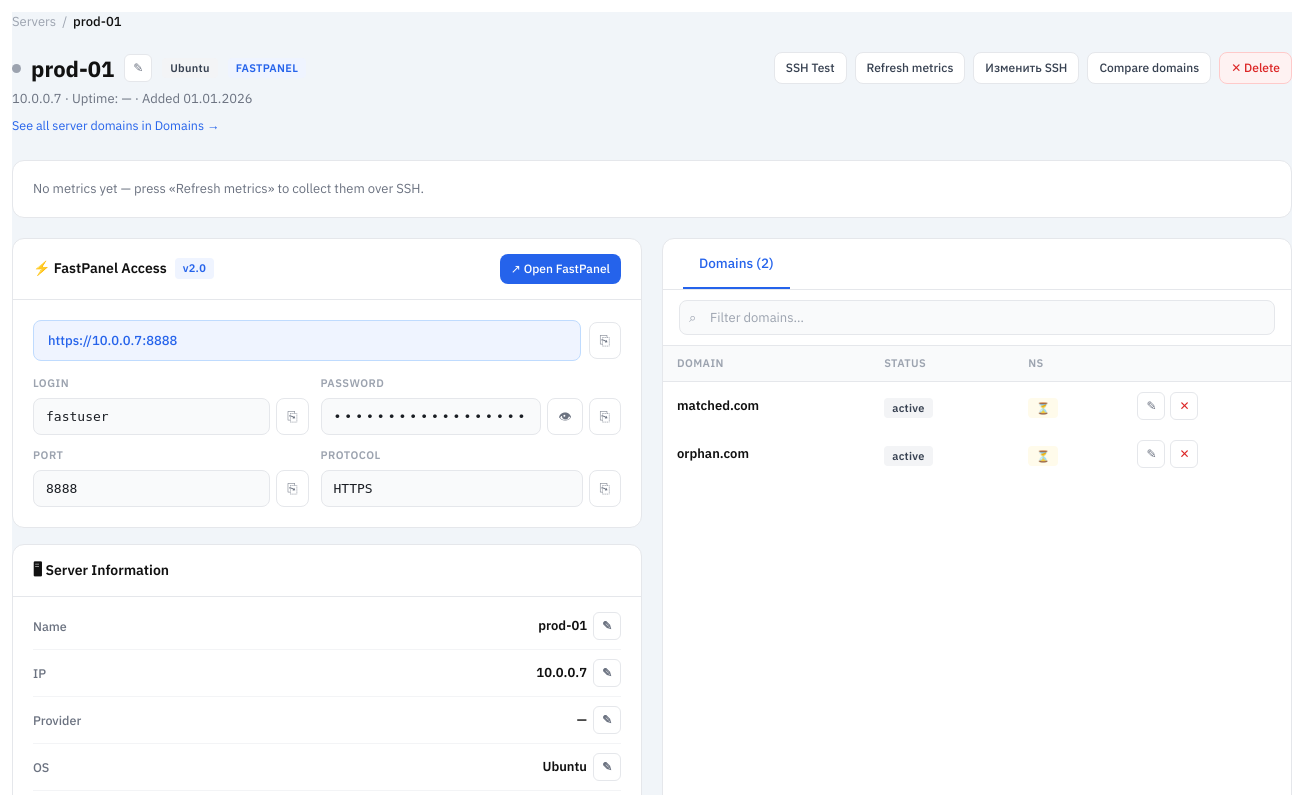
Test: ServerDetail — сверка сайтов и привязка по факту › упавшая привязка названа, а не проглочена
Click the button "Compare domains" at (1149, 68), box top-left (1087, 52), bottom-right (1211, 84)
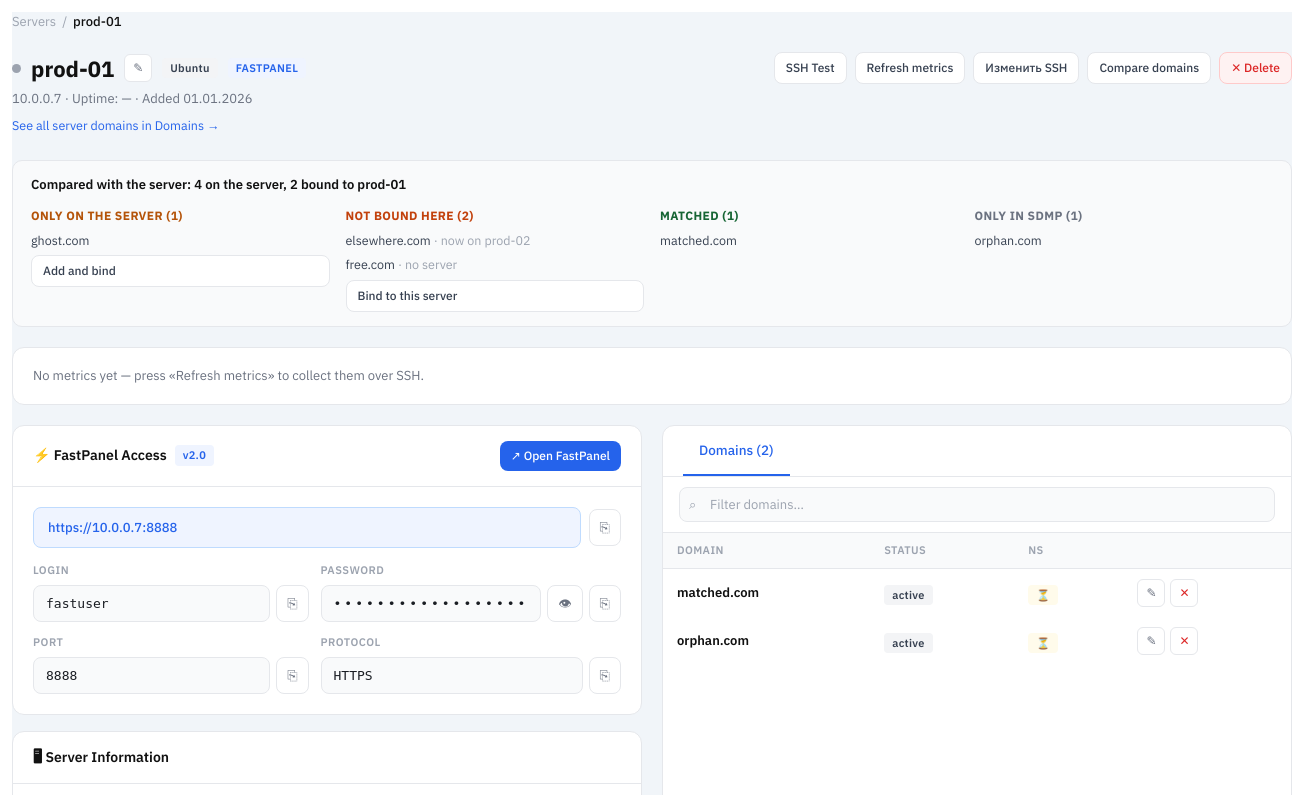
Expected: the text "Compared with the server" is shown, top-left (31, 176), bottom-right (194, 193)
Click the button "Bind to this server" at (407, 296), box top-left (346, 280), bottom-right (644, 312)
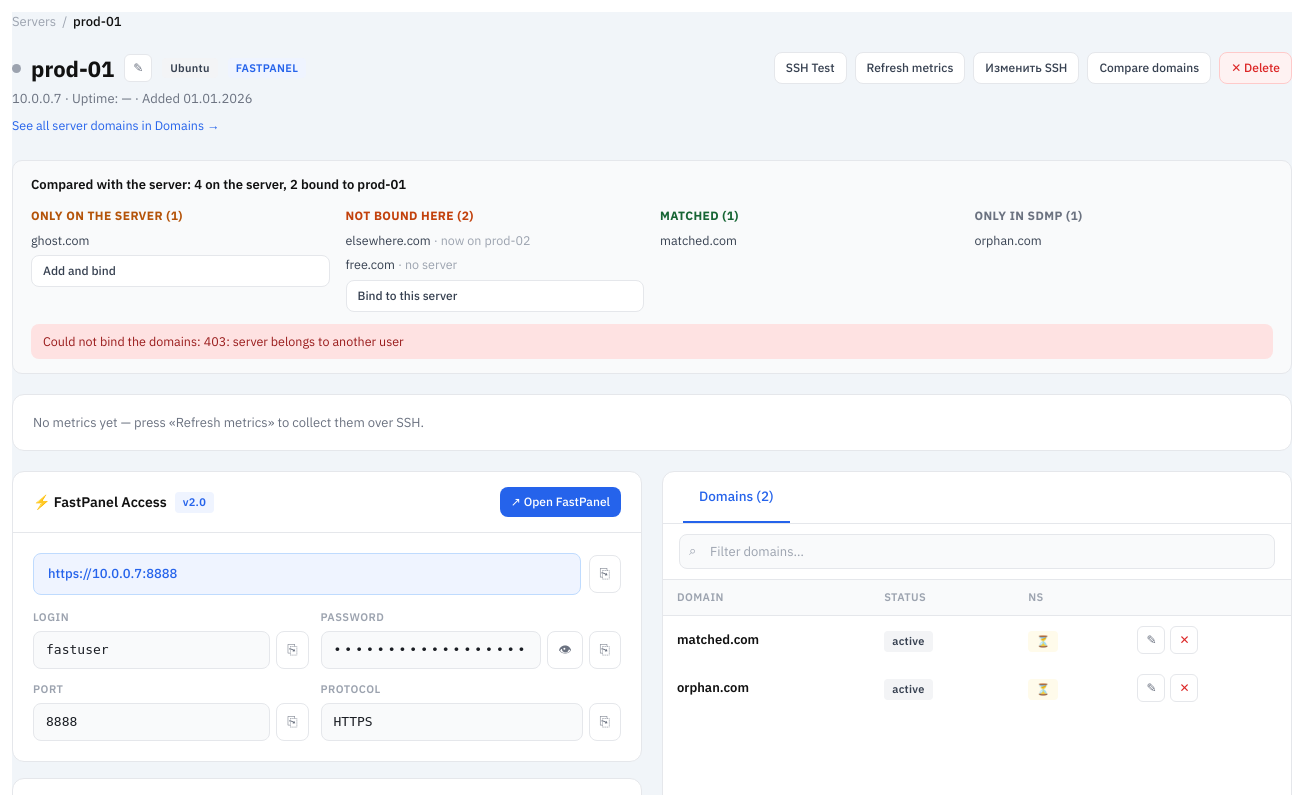
Expected: the message shows "Could not bind the domains", top-left (43, 333), bottom-right (204, 349)
Expected: the message shows "another user", top-left (204, 333), bottom-right (404, 349)
